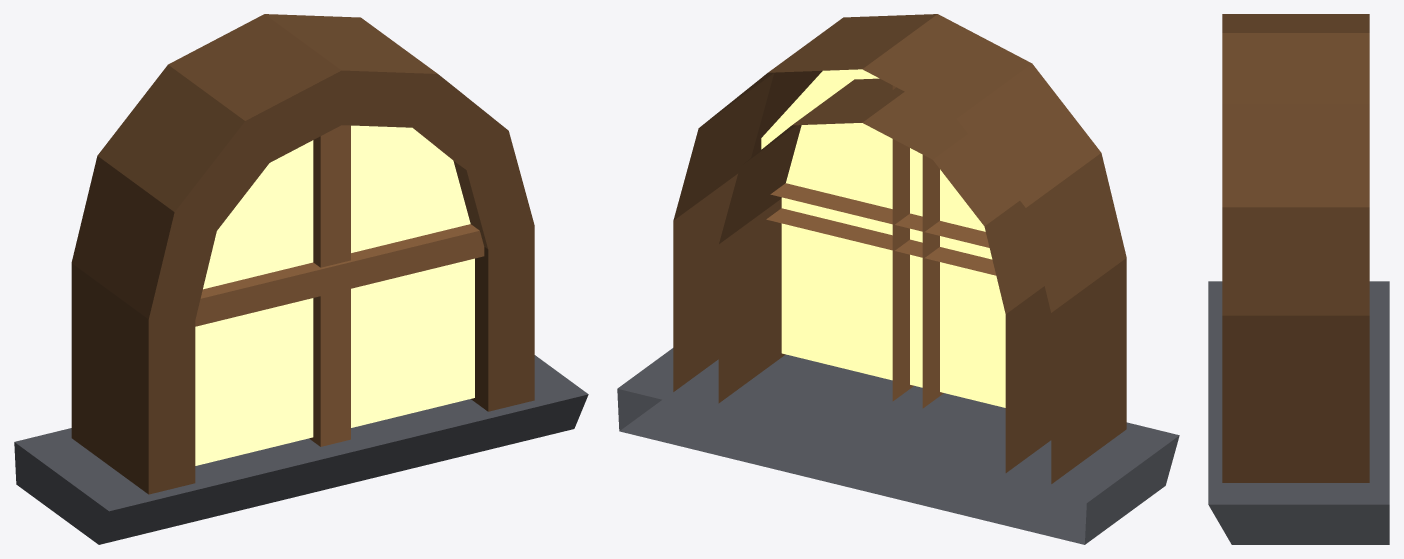
Rendered from Window_2.glb.
The picture shows the model from 3 angles, left to right: view 1: azimuth 30°, elevation 25°; view 2: azimuth 150°, elevation 25°; view 3: azimuth 270°, elevation 25°; orthographic projection. The views are drawn at different scales.
Visible parts, largest first — view 1: Window_2; view 2: Window_2; view 3: Window_2.
Part boxes in pixels (x1,y1,x2,y2): Window_2: (14, 14, 588, 544); Window_2: (617, 14, 1179, 544); Window_2: (1208, 14, 1389, 544).
Size of the model in its own units: 0.447 by 0.3742 by 0.1532.
